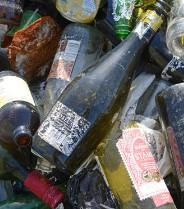glass: (33, 6, 167, 176), (83, 110, 183, 209), (40, 22, 107, 119), (119, 73, 175, 173), (0, 70, 41, 184), (2, 148, 65, 209), (64, 161, 121, 209), (110, 0, 159, 40), (33, 155, 69, 188), (163, 1, 183, 57), (0, 1, 24, 46)
